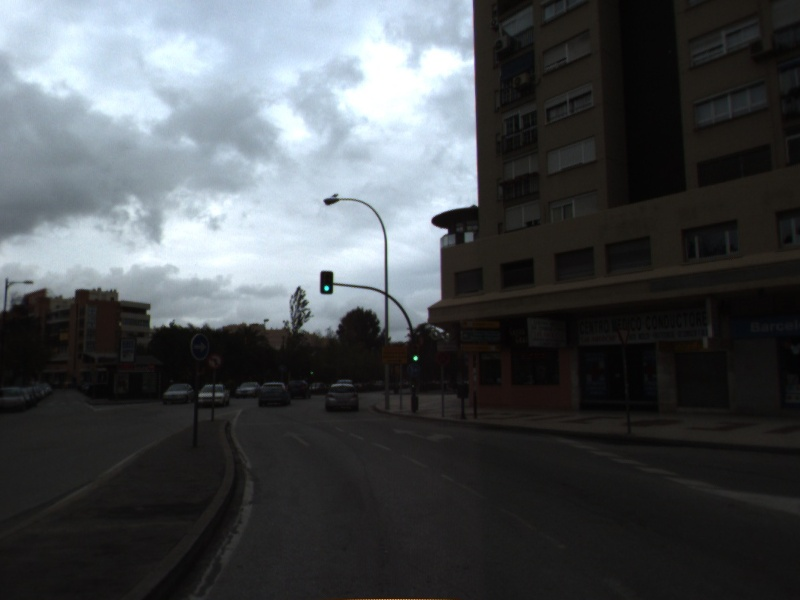STRAIGHT: (280, 428, 313, 449)
STRAIGHT_RIGHT: (392, 427, 457, 444)
